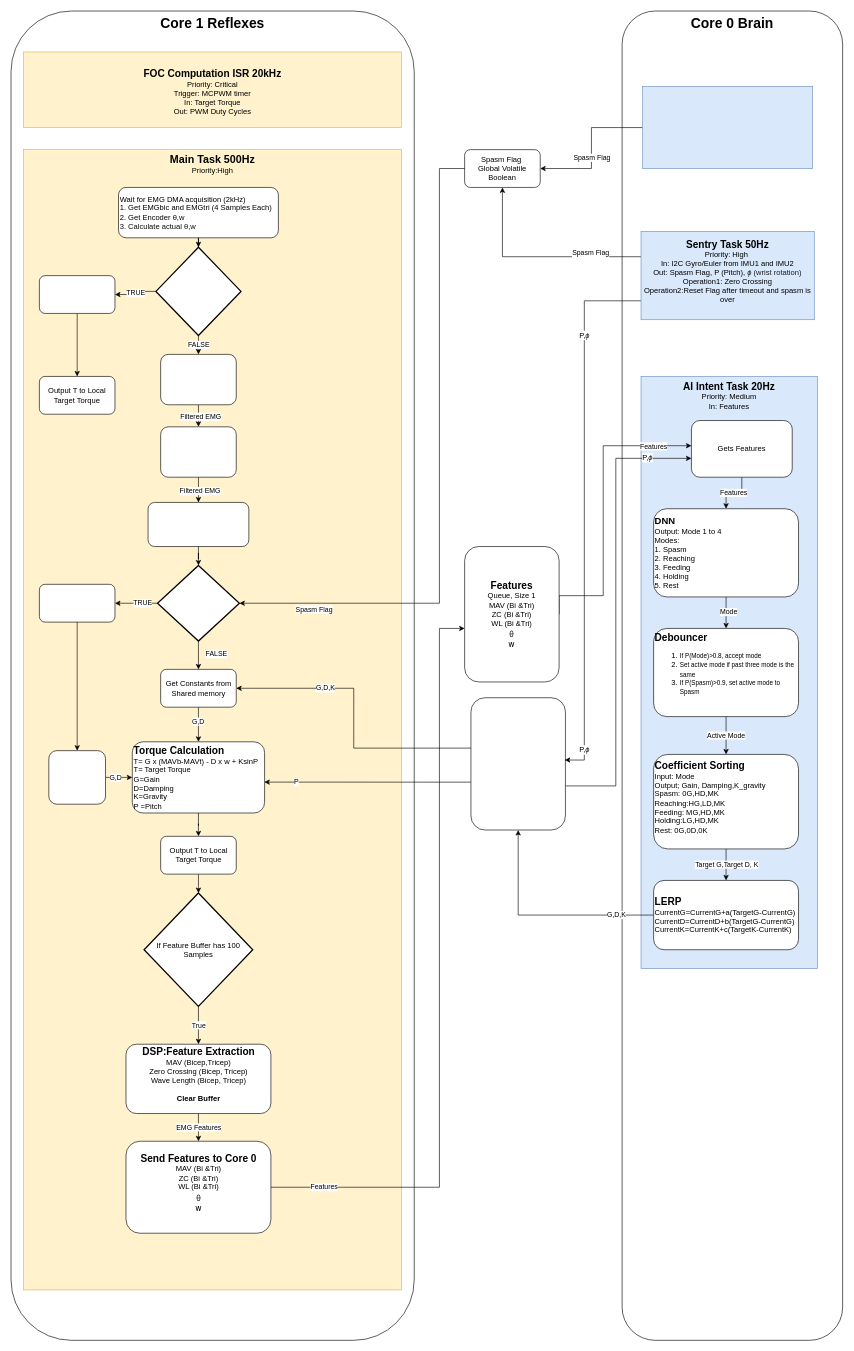
The diagram is 854 pixels wide and 1351 high, and some of its shapes have lost their labels. The shapes that lost their labels are listed below. From the top down, each one's centre as x and y in pixels, then its label:
At (727,127): "GPIO Spasm ISR Priority: Critical Trigger: IMU High G Pin Out: Spasm Flag".
At (77,294): "Calculate Braking Torque".
At (198,291): "If θ >Max or < Min".
At (198,379): "DSP: Filtering 1. Bandpass 2. Notch".
At (198,451): "Add Samples to Features Buffer".
At (198,524): "DSP: Instant Power".
At (77,603): "Activate Spasm Protection".
At (198,602): "Spasms Detection".
At (77,777): "G= Low D = High".
At (517,763): "Control Parameters Global Volitile Structure Gain Damping Pitch K_Gravity P ϕ".
